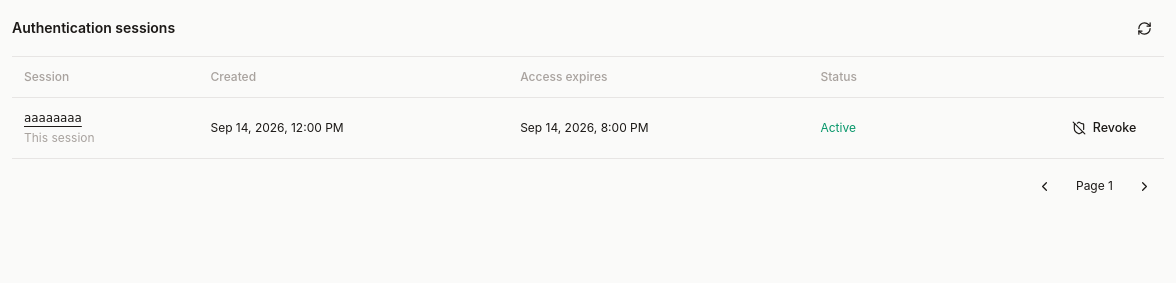
AgentSessions › shows session metadata and expands refresh expiry without any credentials
The width and height of the screenshot is (1176, 283).
Click the button "aaaaaaaa": click(53, 118) [24,110,82,126]
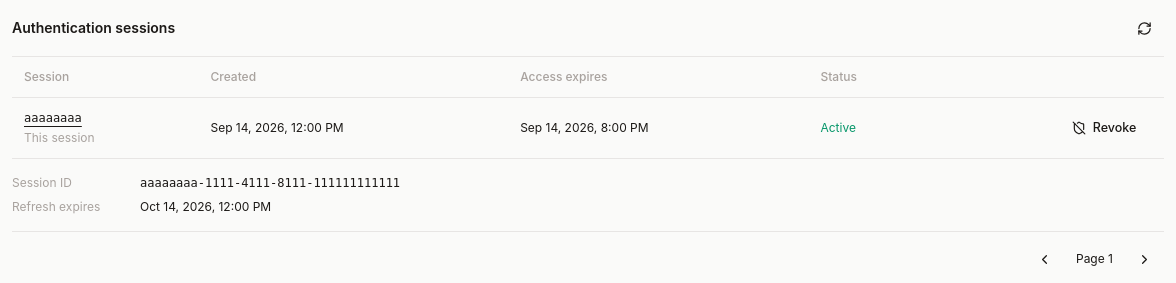
Expected: the text "This session" is shown, [24,130,95,145]
Expected: the text "aaaaaaaa-1111-4111-8111-111111111111" is shown, [140,176,400,190]
Expected: the text "Refresh expires" is shown, [12,199,100,214]
